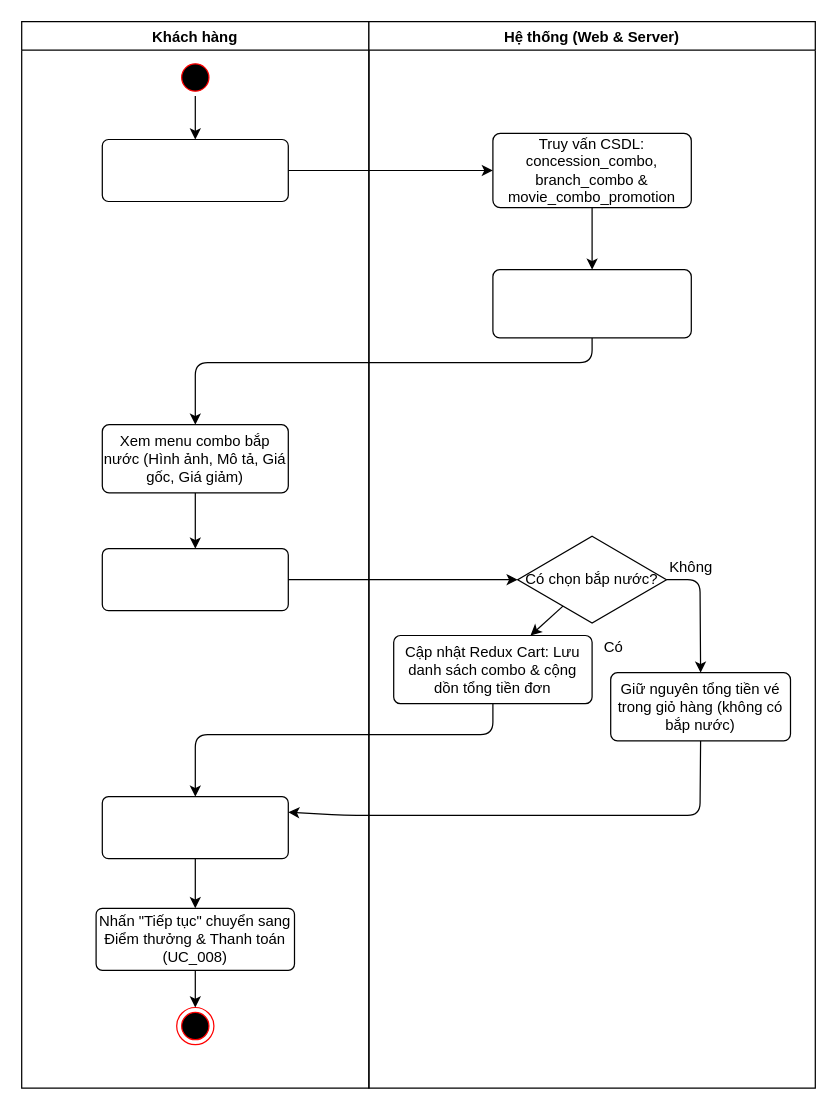
Image size: 837x1110. Some labels were removed from this diagram. Here are the shapes that lost their labels. From the top down, the centre of each, then its label:
At (x=194, y=170): "Chuyển bước chọn bắp nước trên quy trình đặt vé".
At (x=591, y=303): "Tính giá bán sau chiết khấu (final_price) & gắn nhãn ưu đãi theo phim".
At (x=194, y=579): "Nhấn nút '+' / '-' chọn số lượng combo mong muốn".
At (x=194, y=827): "Xem tóm tắt giỏ hàng (Vé + Bắp nước & Tổng tiền tạm tính)".
